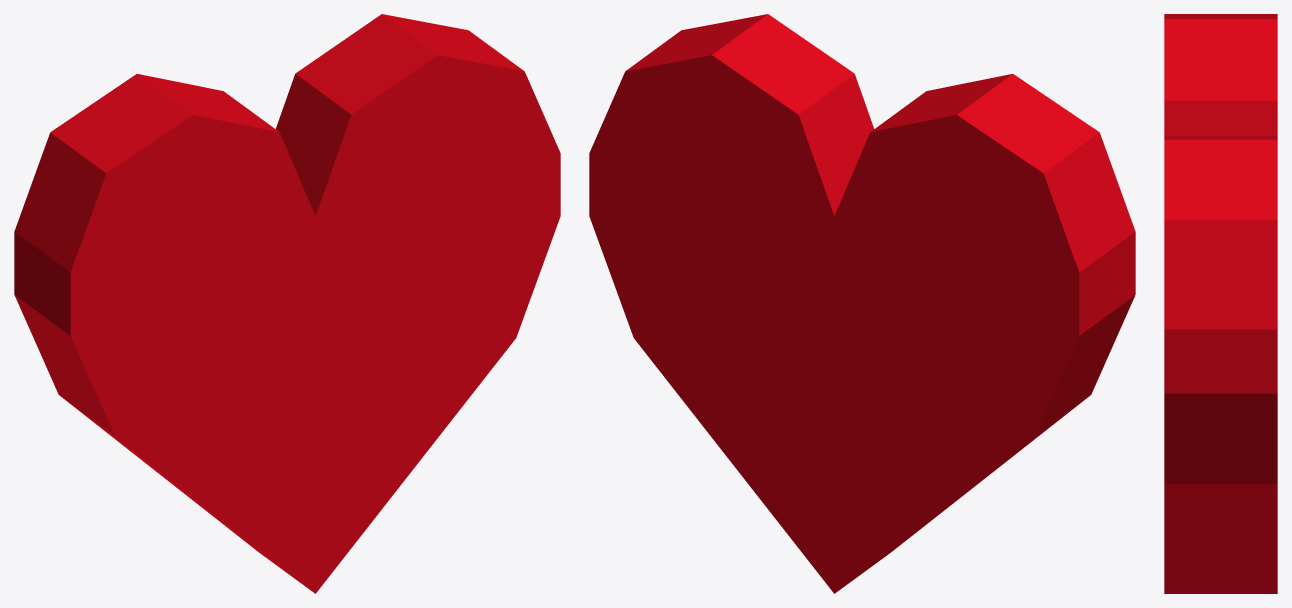
File: Heart.fbx
3 views of the same model, side by side, from view 1: azimuth 30°, elevation 25°; view 2: azimuth 150°, elevation 25°; view 3: azimuth 270°, elevation 25° (orthographic).
Parts seen in each view (by area): view 1: Heart; view 2: Heart; view 3: Heart.
Part boxes in pixels (x1=…): Heart: x1=14, y1=14, x2=560, y2=593; Heart: x1=589, y1=14, x2=1135, y2=593; Heart: x1=1164, y1=14, x2=1277, y2=593.
Bounding box in the file's own units: 1.01 × 0.998 × 0.1997.
